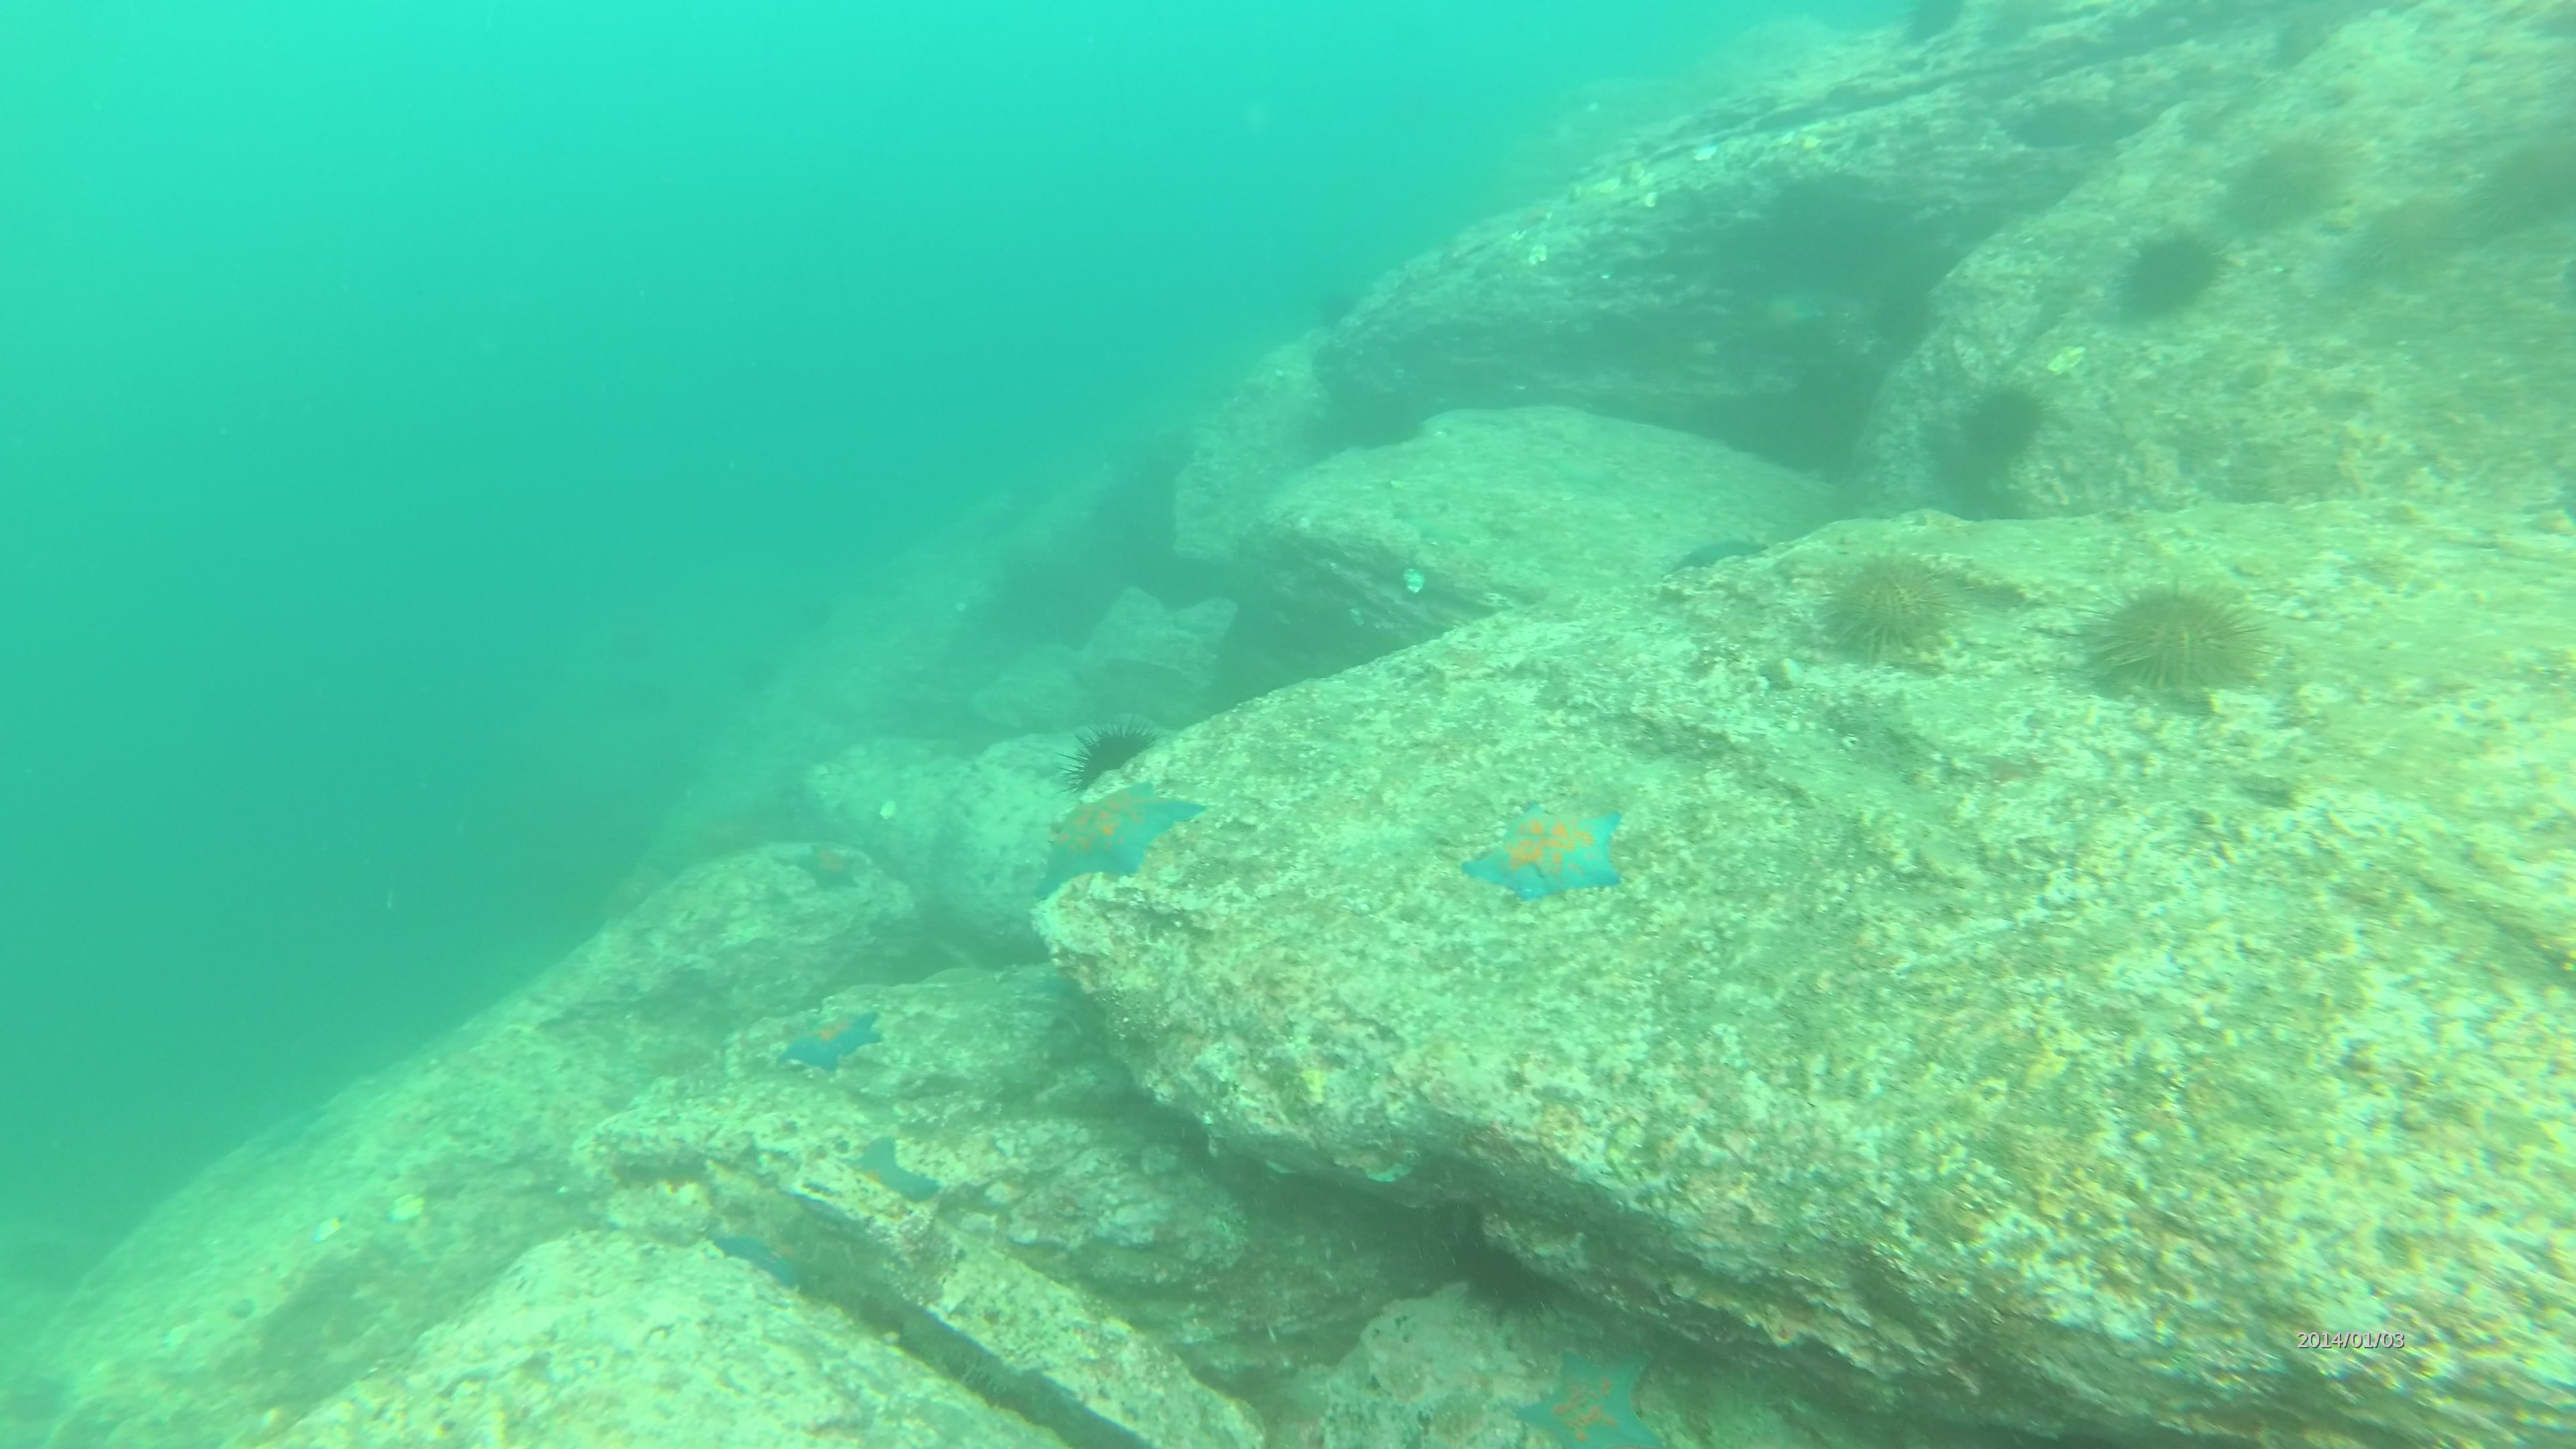echinus: (2095, 575, 2270, 699), (2463, 127, 2576, 244), (1828, 552, 1946, 658), (2245, 122, 2353, 228), (2128, 228, 2220, 327), (1049, 722, 1173, 794), (2360, 188, 2457, 274), (1969, 380, 2054, 464), (1306, 288, 1362, 329)
starfish: (1028, 778, 1203, 897), (1460, 796, 1635, 908), (1513, 1338, 1679, 1449), (824, 1136, 941, 1240), (775, 1010, 890, 1077), (720, 1217, 810, 1297), (782, 837, 872, 901)
